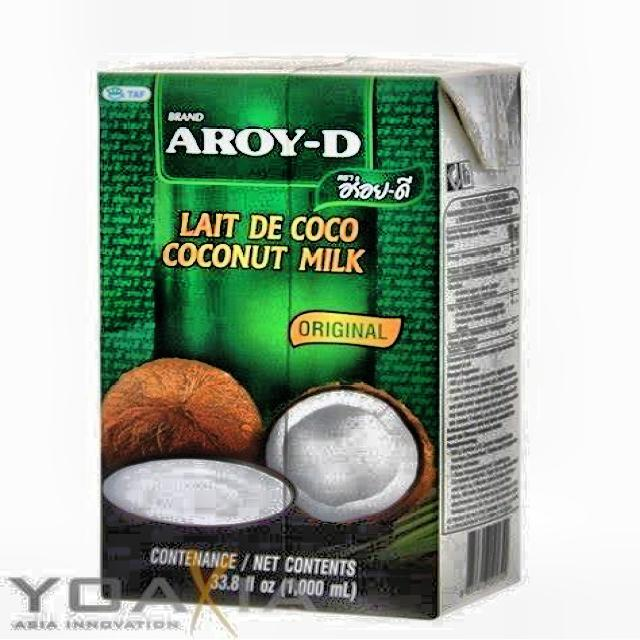cardboard: (97, 58, 523, 619)
